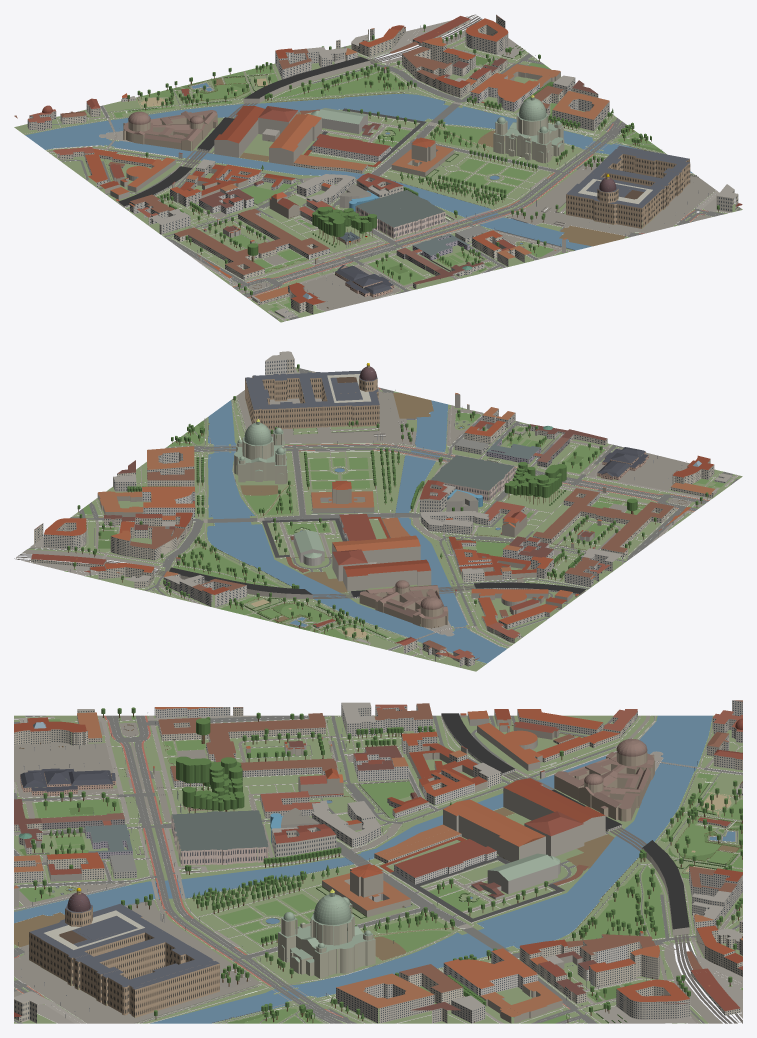
The picture shows the model from 3 angles, top to bottom: view 1: azimuth 30°, elevation 25°; view 2: azimuth 150°, elevation 25°; view 3: azimuth 270°, elevation 25°; orthographic projection. The views are drawn at different scales.
Bounding box in the file's own units: 750 × 82.17 × 750.
Materials: 3 (1 with a texture image).
